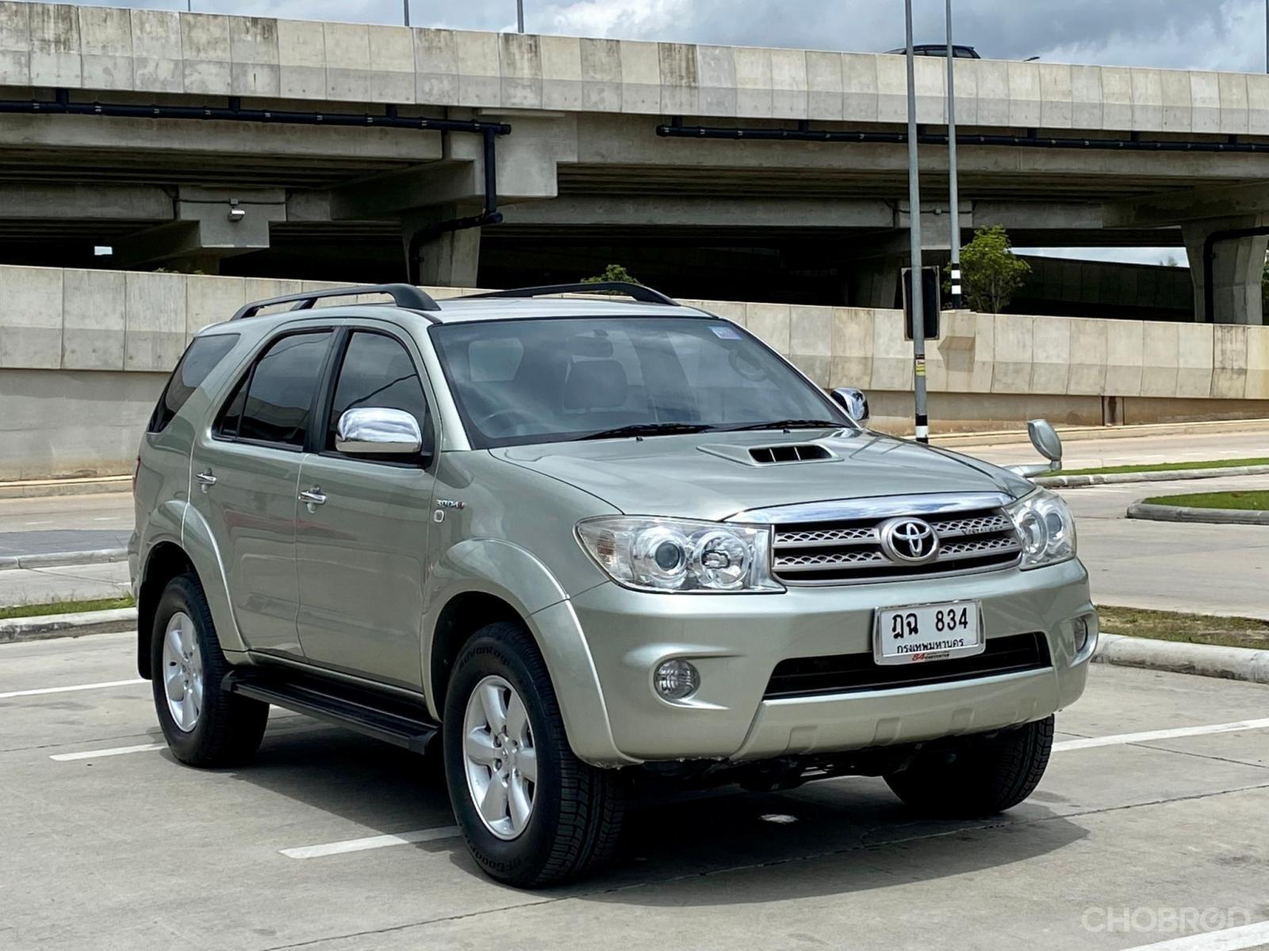license-plate: (862, 592, 992, 672)
